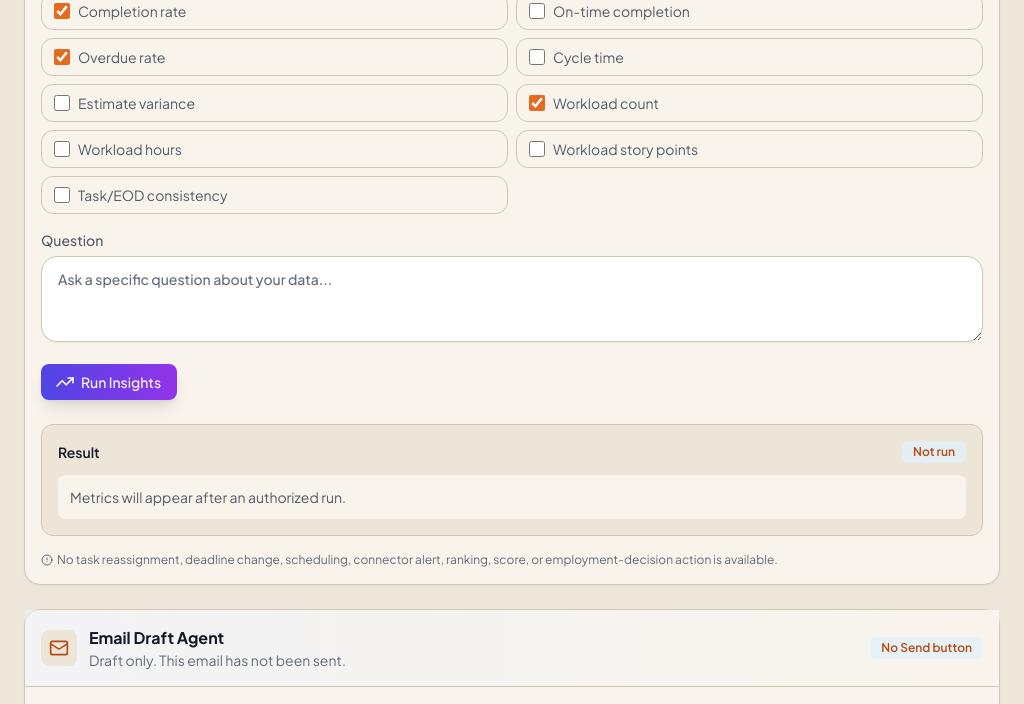
Test case: AIHub agent integration › renders Task Performance metrics as immutable verified metrics
(page scrolled)
Step 1. Click the button "Run Insights" → (109, 382), box [41,364,177,400]
(page scrolled)
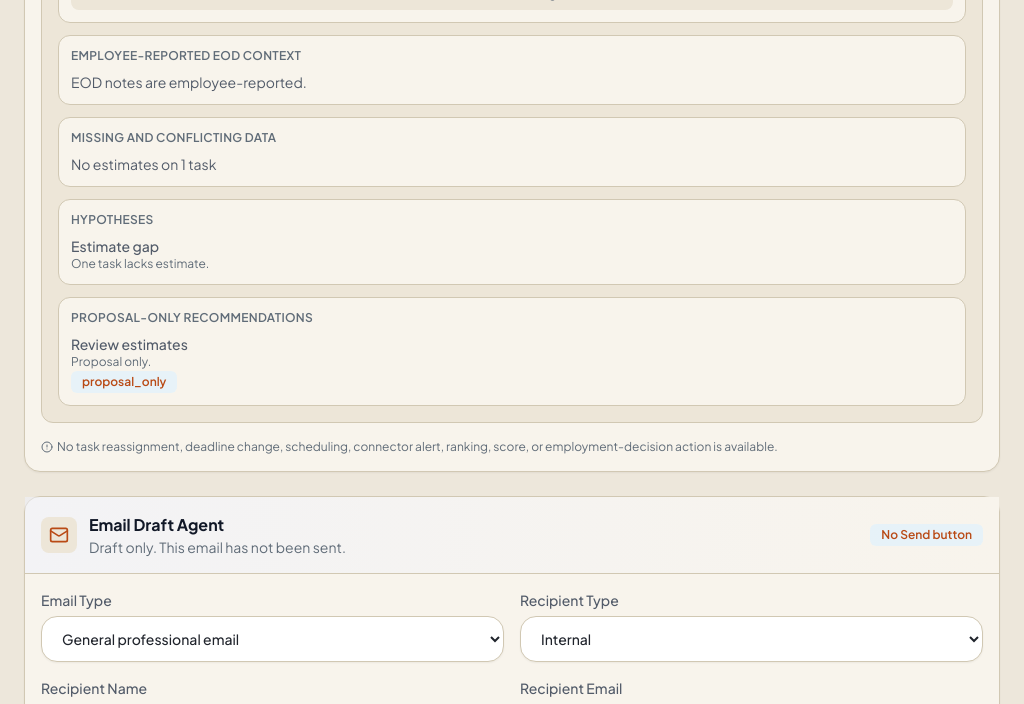
expect the heading "Employee-reported EOD context" is shown: met, box [71,48,301,62]
expect the heading "Hypotheses" is shown: met, box [71,212,154,226]
expect the text "proposal_only" is shown: met, box [71,370,178,392]
